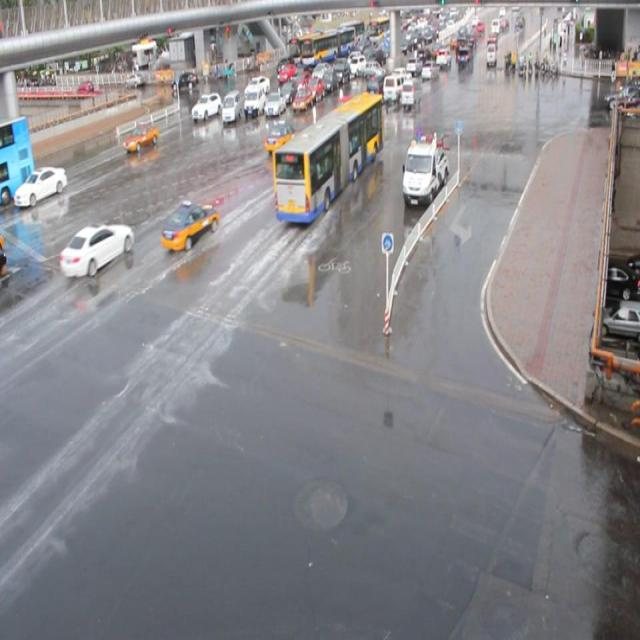bus: (402, 138, 449, 206)
car: (59, 221, 133, 277), (160, 200, 219, 250), (16, 165, 67, 208), (264, 118, 301, 153), (283, 134, 316, 172), (123, 121, 159, 152), (313, 109, 343, 145), (191, 92, 222, 121), (333, 94, 360, 126), (366, 70, 390, 98), (243, 75, 270, 97), (291, 88, 313, 114), (265, 92, 286, 118), (305, 77, 324, 102), (279, 80, 298, 104), (292, 72, 311, 94)
truck: (382, 74, 407, 103), (221, 90, 242, 123), (246, 85, 268, 116), (400, 78, 421, 110)
van: (271, 91, 382, 223), (1, 115, 36, 207)
